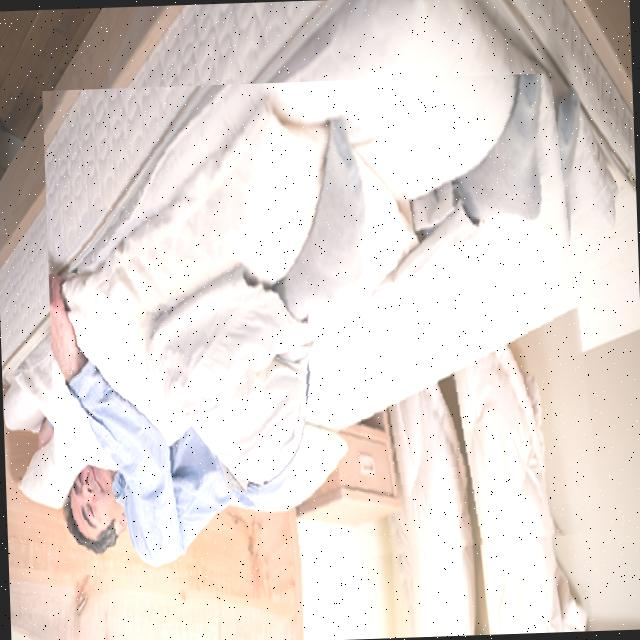people: (42, 72, 605, 590)
